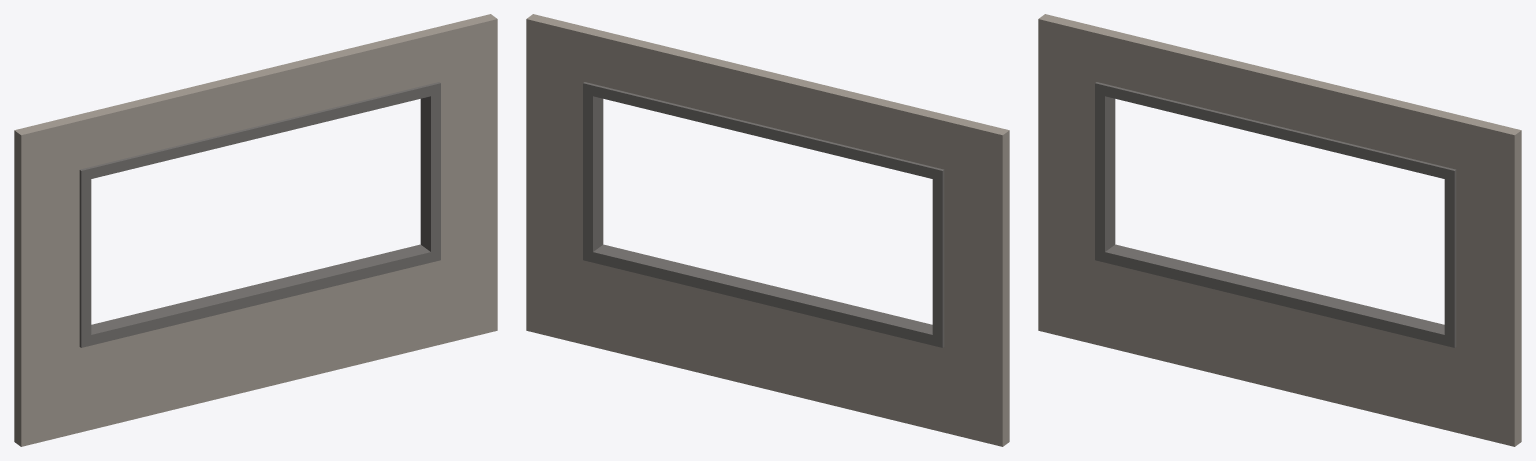
The model's file is SM_Bldg_City_InteriorWall_Window.fbx.
3 views of the same model, side by side, from view 1: azimuth 30°, elevation 25°; view 2: azimuth 150°, elevation 25°; view 3: azimuth 330°, elevation 25° (orthographic).
Parts seen in each view (by area): view 1: SM_Bldg_City_InteriorWall_Window; view 2: SM_Bldg_City_InteriorWall_Window; view 3: SM_Bldg_City_InteriorWall_Window.
Boxes of the visible parts, <box> form: SM_Bldg_City_InteriorWall_Window: <box>14,14,497,446</box>; SM_Bldg_City_InteriorWall_Window: <box>526,14,1009,446</box>; SM_Bldg_City_InteriorWall_Window: <box>1038,14,1521,446</box>.
Size of the model in its own units: 400 by 250 by 15.12.
